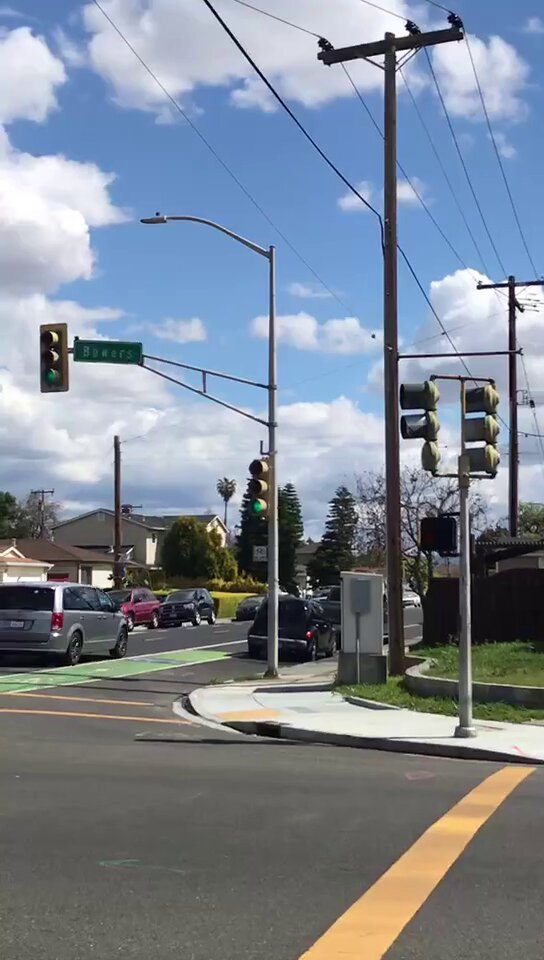green_light: (38, 324, 64, 390), (252, 457, 269, 516)
